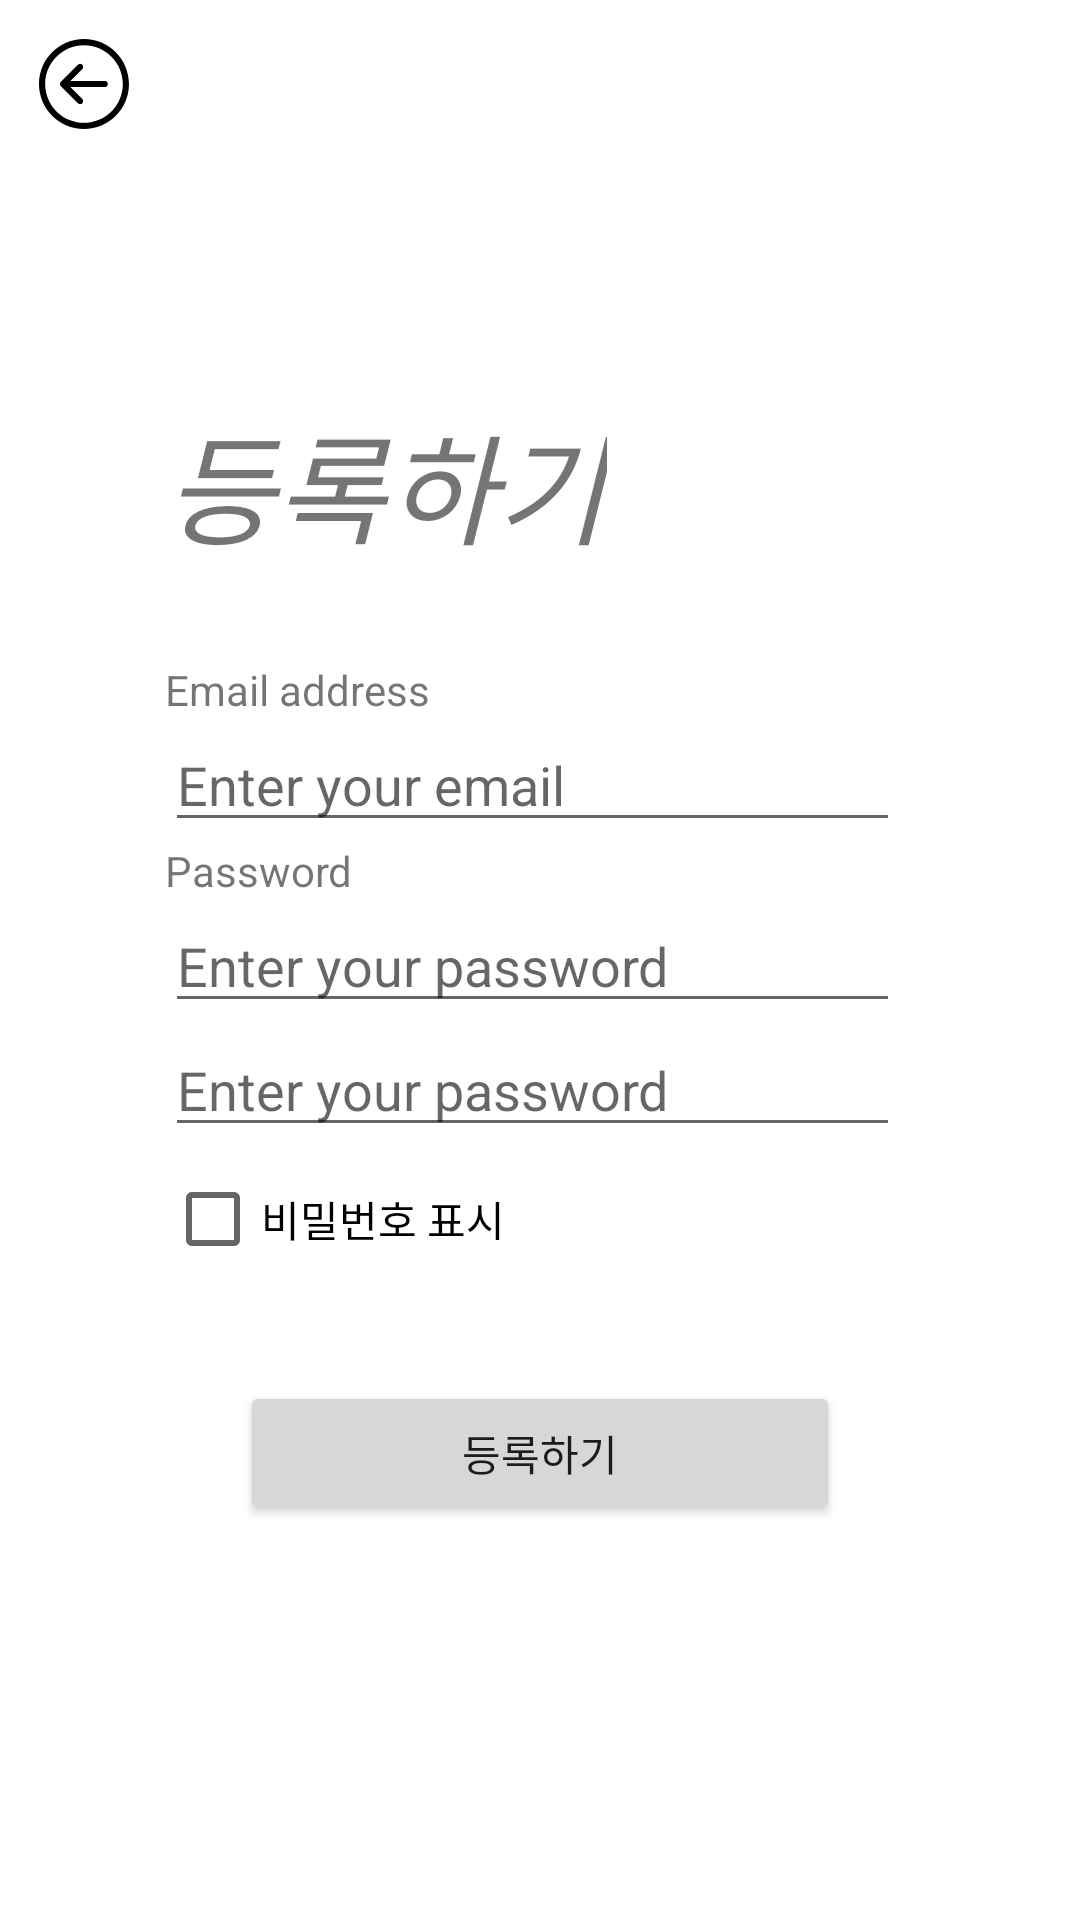

Icons on this 1080px×1920px Android screen, each with the point to tap as (x=x, y=y):
back: (x=84, y=84)
